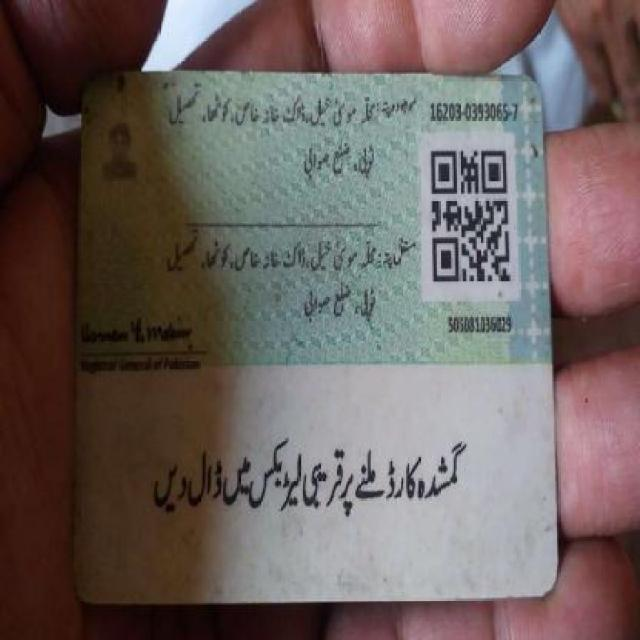Back: (71, 68, 563, 604)
